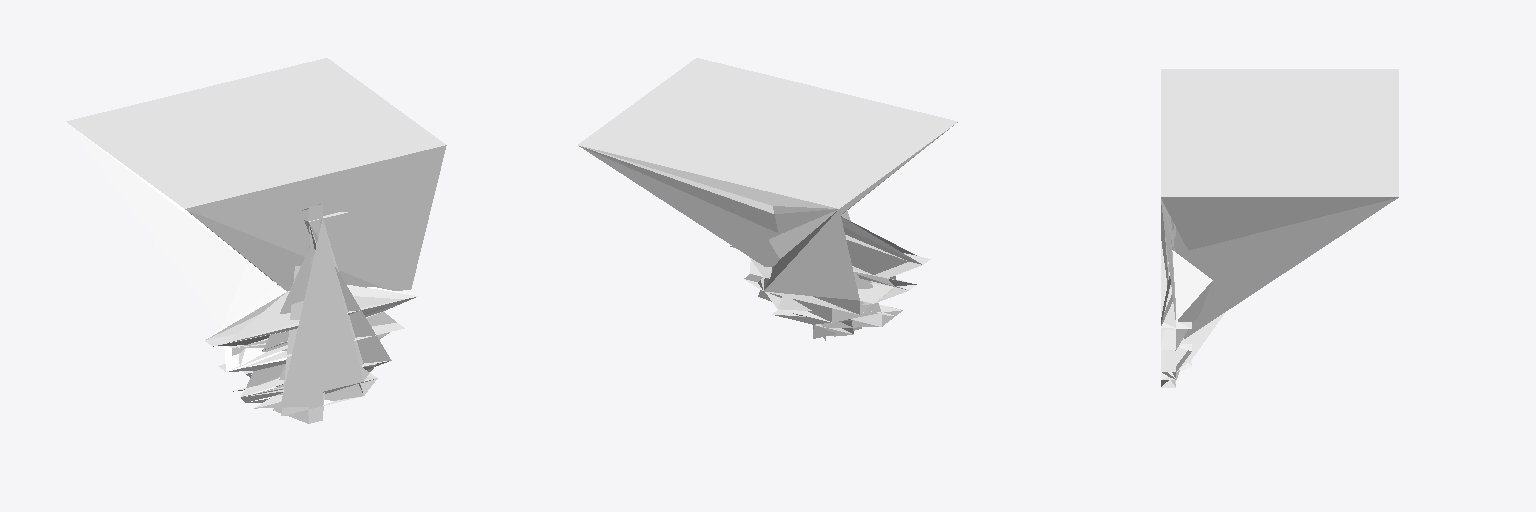
The model's file is spkr_single.obj.
3 renders of one model, left to right at view 1: azimuth 30°, elevation 25°; view 2: azimuth 150°, elevation 25°; view 3: azimuth 270°, elevation 25°, orthographic.
Size of the model in its own units: 19 by 17 by 15.